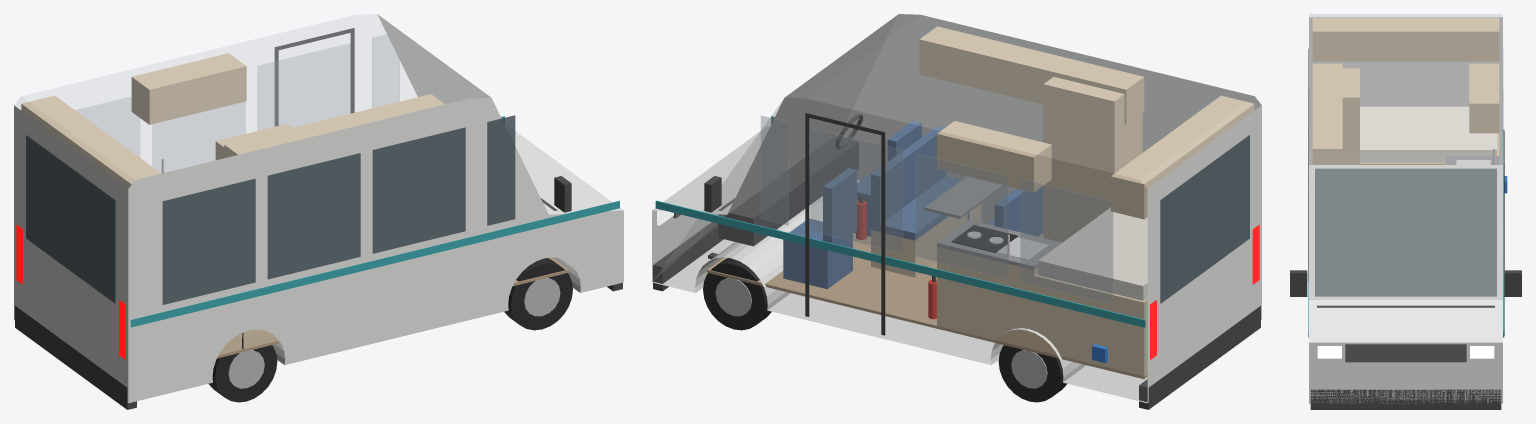
Rendered from force_traveller-widerbody_3350wb.glb.
3 views of the same model, side by side, from view 1: azimuth 30°, elevation 25°; view 2: azimuth 150°, elevation 25°; view 3: azimuth 270°, elevation 25° (orthographic). The views are drawn at different scales.
Parts seen in each view (by area): view 1: Body_Shell, Body_Cutaway_LeftWall_Roof, Window_Right_0, Window_Right_1, Window_Right_2, Window_Rear, Window_Left_0, Storage_Overhead_Left_Kitchen, Storage_Overhead_Rear, Window_Left_1, Stripe_Right, Storage_Overhead_Right (+10 smaller); view 2: Body_Cutaway_LeftWall_Roof, Body_Shell, Storage_Wardrobe_Tall, Window_Left_2, Window_Left_1, Window_Rear, Storage_Overhead_Right, Window_Left_0, Bed_Platform_Fixed_Rear, Kitchen_Base_Cabinets, Bed_Mattress_Double, Floor_Living (+25 smaller); view 3: Body_Shell, Body_Cutaway_LeftWall_Roof, Windscreen, Storage_Overhead_Rear, Bed_Mattress_Double, Bumper_Front, Storage_Overhead_Right, Grille, Storage_Overhead_Left_Kitchen, Storage_Wardrobe_Tall, Dashboard, Mirror_L (+6 smaller).
Part boxes in pixels (x1,y1,x2,y2): Body_Shell: (14,14,623,403); Body_Cutaway_LeftWall_Roof: (14,14,488,188); Window_Right_0: (372,127,465,253); Window_Right_1: (267,153,360,279); Window_Right_2: (162,179,255,304); Window_Rear: (26,135,115,303); Window_Left_0: (257,43,350,130); Storage_Overhead_Left_Kitchen: (131,53,246,124); Storage_Overhead_Rear: (21,95,160,188); Window_Left_1: (152,102,245,172); Stripe_Right: (130,200,619,327); Storage_Overhead_Right: (224,94,444,158); Body_Cutaway_LeftWall_Roof: (652,14,1260,402); Body_Shell: (652,14,1261,403); Storage_Wardrobe_Tall: (1043,77,1142,242); Window_Left_2: (1020,179,1112,304); Window_Left_1: (915,153,1007,278); Window_Rear: (1160,135,1249,303); Storage_Overhead_Right: (919,26,1144,124); Window_Left_0: (810,128,902,253); Bed_Platform_Fixed_Rear: (1034,273,1147,376); Kitchen_Base_Cabinets: (937,246,1038,349); Bed_Mattress_Double: (1038,208,1147,300); Floor_Living: (707,233,1147,379); Body_Shell: (1309,17,1502,403); Body_Cutaway_LeftWall_Roof: (1309,14,1502,164); Windscreen: (1315,168,1496,296); Storage_Overhead_Rear: (1312,18,1499,61); Bed_Mattress_Double: (1360,106,1496,162); Bumper_Front: (1310,389,1501,409); Storage_Overhead_Right: (1312,63,1342,164); Grille: (1345,344,1466,362); Storage_Overhead_Left_Kitchen: (1469,63,1499,133); Storage_Wardrobe_Tall: (1342,68,1359,164); Dashboard: (1317,305,1494,307); Mirror_L: (1504,270,1521,296).
Size of the model in its own units: 5.63 by 2.72 by 2.68.
